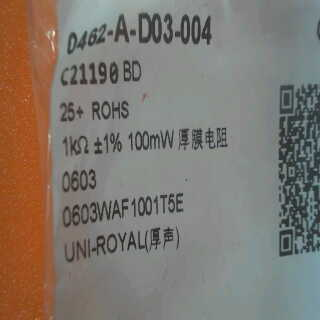1kR: (55, 134, 93, 160)
